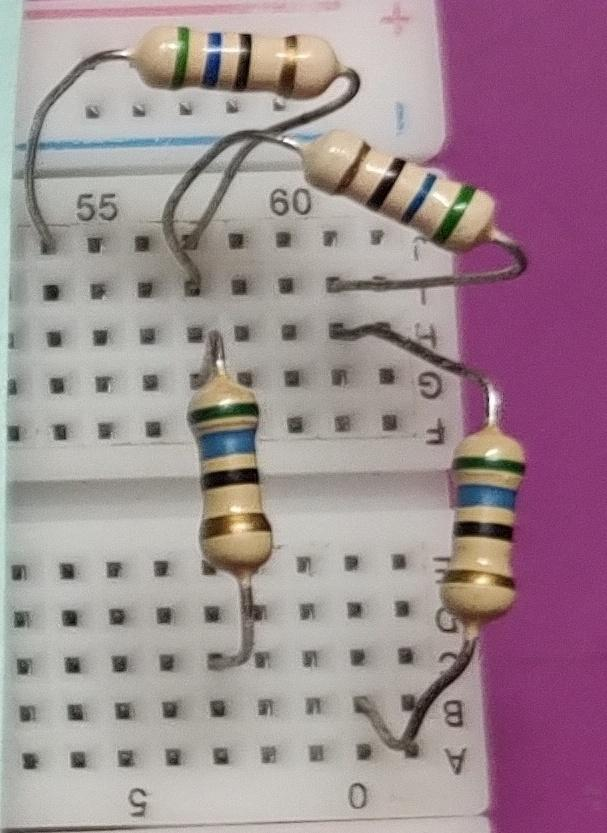resistor: (295, 124, 517, 253), (180, 365, 288, 591), (119, 17, 352, 104), (439, 414, 528, 634)
